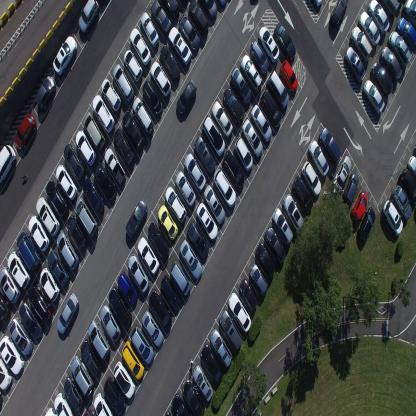car: (7, 317, 34, 356), (16, 230, 41, 272), (130, 325, 155, 366), (52, 35, 77, 76), (56, 291, 79, 335), (202, 114, 226, 156), (148, 288, 172, 330), (108, 286, 132, 328), (87, 318, 111, 360), (70, 354, 94, 396), (18, 300, 43, 340), (75, 196, 99, 237), (121, 110, 145, 151), (112, 359, 136, 400), (82, 111, 106, 152), (0, 335, 24, 376), (220, 308, 242, 352), (228, 292, 251, 334), (200, 342, 223, 384), (56, 230, 79, 272), (92, 92, 115, 134), (36, 195, 59, 237), (112, 127, 136, 167), (124, 199, 148, 239), (168, 26, 192, 66), (147, 220, 170, 261), (131, 95, 154, 136), (121, 340, 144, 381), (127, 253, 150, 294), (259, 88, 282, 129), (136, 236, 160, 275), (183, 152, 206, 192), (103, 146, 126, 186), (142, 309, 165, 349), (103, 375, 126, 415), (7, 250, 30, 290), (213, 169, 237, 207), (45, 180, 69, 218), (388, 29, 412, 67), (203, 184, 225, 225), (80, 337, 102, 378), (274, 20, 296, 61), (222, 150, 245, 189), (82, 176, 105, 215), (180, 239, 202, 279), (196, 202, 218, 242), (210, 328, 232, 368), (241, 118, 263, 158), (292, 174, 314, 214), (250, 103, 272, 143), (230, 66, 252, 106), (112, 63, 134, 103), (186, 220, 209, 258), (94, 164, 117, 202), (182, 378, 205, 416), (28, 286, 51, 324), (194, 136, 216, 175), (47, 248, 69, 287), (63, 143, 85, 182), (240, 54, 262, 93), (267, 70, 289, 109), (159, 43, 181, 82), (28, 214, 50, 253), (350, 25, 373, 62), (265, 225, 286, 265), (211, 100, 233, 138), (192, 364, 214, 402), (308, 140, 330, 178), (319, 126, 341, 164), (175, 78, 197, 116), (380, 45, 402, 83), (129, 27, 151, 65), (178, 12, 200, 50), (14, 112, 36, 150), (100, 304, 121, 343), (174, 170, 196, 207), (75, 129, 97, 166), (272, 208, 294, 245), (363, 78, 385, 115), (358, 10, 380, 47), (344, 46, 366, 83), (100, 77, 122, 114), (367, 0, 390, 35), (332, 154, 352, 194), (282, 193, 303, 231), (0, 266, 21, 304), (164, 186, 186, 222), (222, 87, 244, 123), (370, 62, 393, 96), (256, 241, 276, 280), (301, 160, 322, 197), (63, 375, 84, 412), (258, 26, 279, 63), (150, 60, 171, 97), (160, 274, 180, 312), (383, 198, 403, 236), (170, 260, 191, 296), (157, 204, 178, 240), (56, 164, 77, 200), (141, 79, 162, 115), (78, 0, 99, 36), (150, 0, 172, 34), (117, 271, 138, 306), (188, 0, 209, 35), (67, 213, 87, 249), (392, 184, 412, 220), (140, 11, 160, 47), (40, 266, 60, 302), (248, 41, 269, 75), (35, 75, 56, 109), (0, 143, 17, 185), (239, 278, 258, 314), (358, 206, 376, 244), (396, 17, 416, 51), (123, 49, 143, 83), (279, 59, 298, 94), (234, 136, 253, 170), (249, 262, 268, 296), (350, 191, 369, 225), (400, 168, 416, 205), (343, 173, 359, 206), (330, 0, 349, 26), (93, 392, 113, 415), (54, 392, 74, 415), (376, 0, 400, 19), (0, 357, 13, 391), (171, 392, 190, 415), (158, 0, 180, 19), (197, 0, 217, 20), (402, 0, 416, 26), (0, 292, 10, 320), (406, 153, 416, 180), (43, 406, 58, 416), (215, 0, 229, 8), (311, 0, 323, 9), (83, 408, 96, 415), (163, 410, 171, 415)
